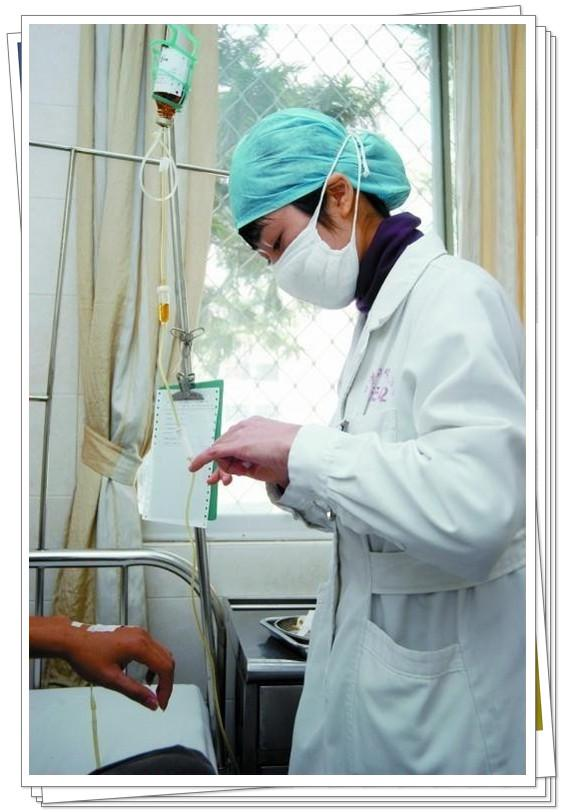OK: (247, 187, 368, 308)
